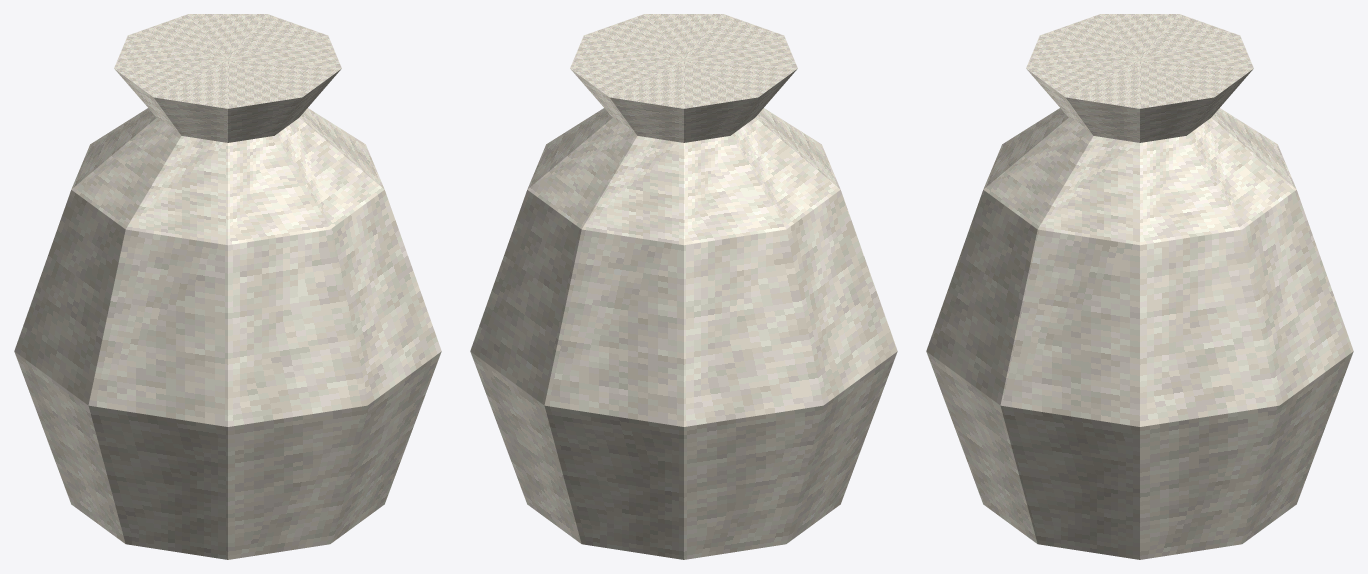
Rendered from farinha.glb.
3 renders of one model, left to right at view 1: azimuth 30°, elevation 25°; view 2: azimuth 150°, elevation 25°; view 3: azimuth 270°, elevation 25°, orthographic.
Visible parts, largest first — view 1: farinha; view 2: farinha; view 3: farinha.
Boxes of the visible parts, <box> form: farinha: <box>14,14,441,559</box>; farinha: <box>470,14,897,559</box>; farinha: <box>926,14,1353,559</box>.
Size of the model in its own units: 0.5819 by 0.66 by 0.5909.
1 material, 1 textured.
